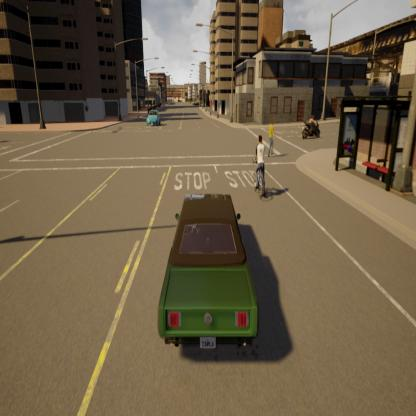Cars: (157, 188, 260, 355), (253, 132, 267, 199), (302, 113, 320, 142), (146, 107, 162, 128)
Pedestrian: (266, 116, 278, 160)
